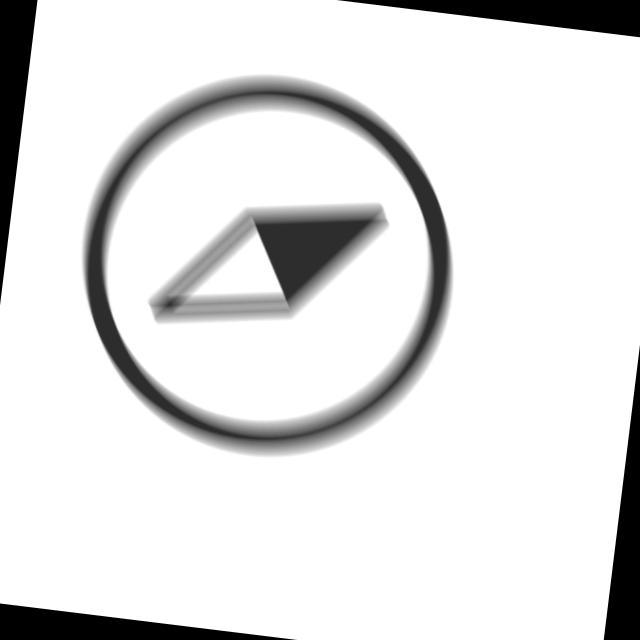compass: (54, 51, 483, 487)
